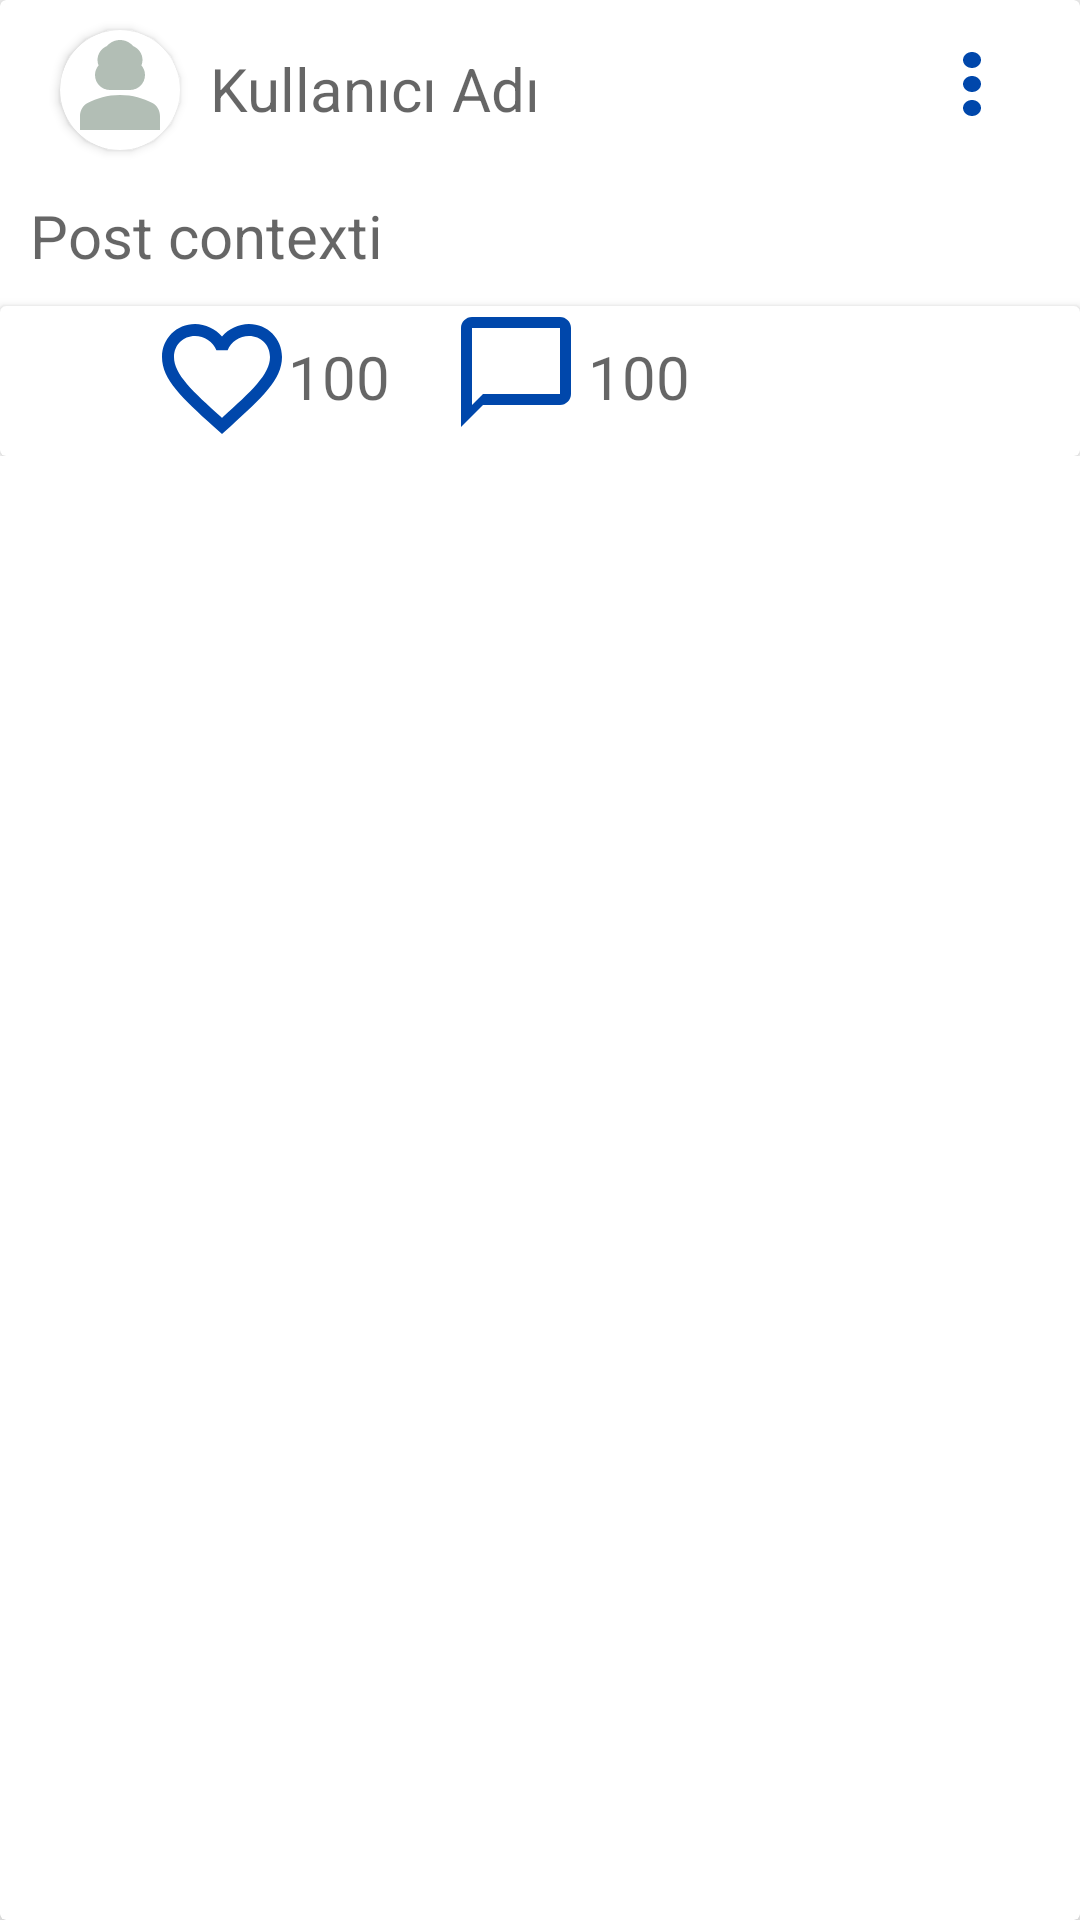

Icon click points for this 1080px x 1920px phone screenshot, format (x=x, y=y):
kalp icibos: (x=222, y=379)
person: (x=110, y=90)
yorum icibos: (x=516, y=372)
